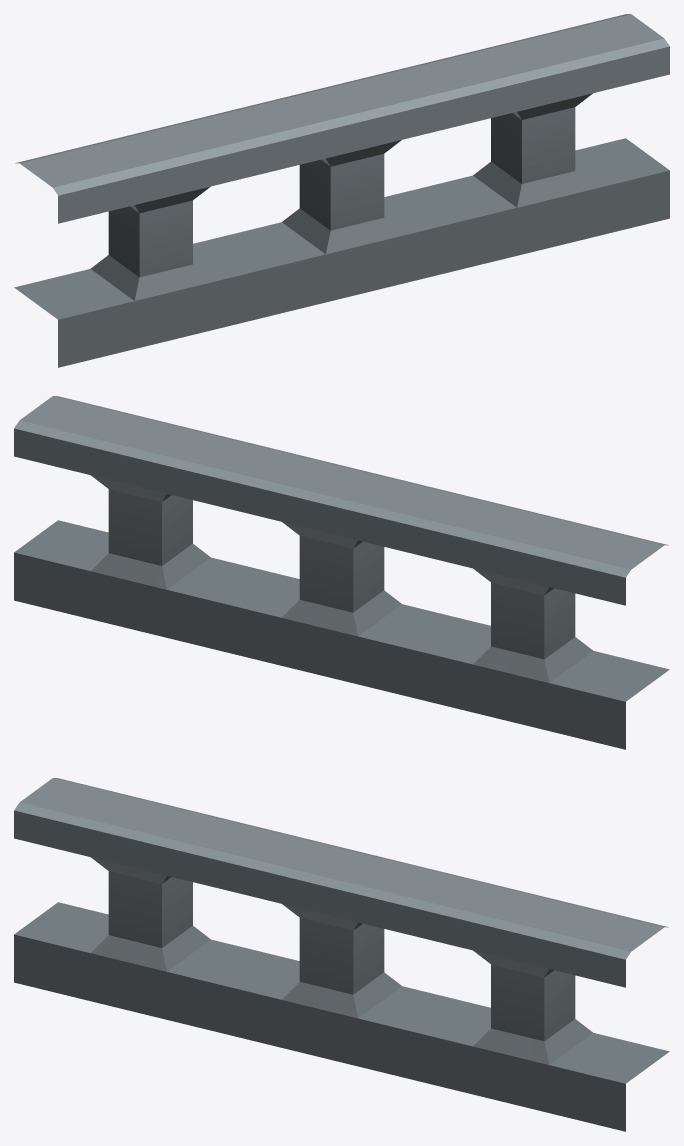
Rendered from barrier-gltf.glb.
3 renders of one model, top to bottom at view 1: azimuth 30°, elevation 25°; view 2: azimuth 150°, elevation 25°; view 3: azimuth 330°, elevation 25°, orthographic.
Visible parts, largest first — view 1: barrier; view 2: barrier; view 3: barrier.
Boxes of the visible parts, x1,y1,x2,y2 form: barrier: [14, 14, 669, 367]; barrier: [14, 396, 669, 749]; barrier: [14, 778, 669, 1131].
Bounding box in the file's own units: 4 × 1.1 × 0.5.
Materials: 1 (1 with a texture image).
